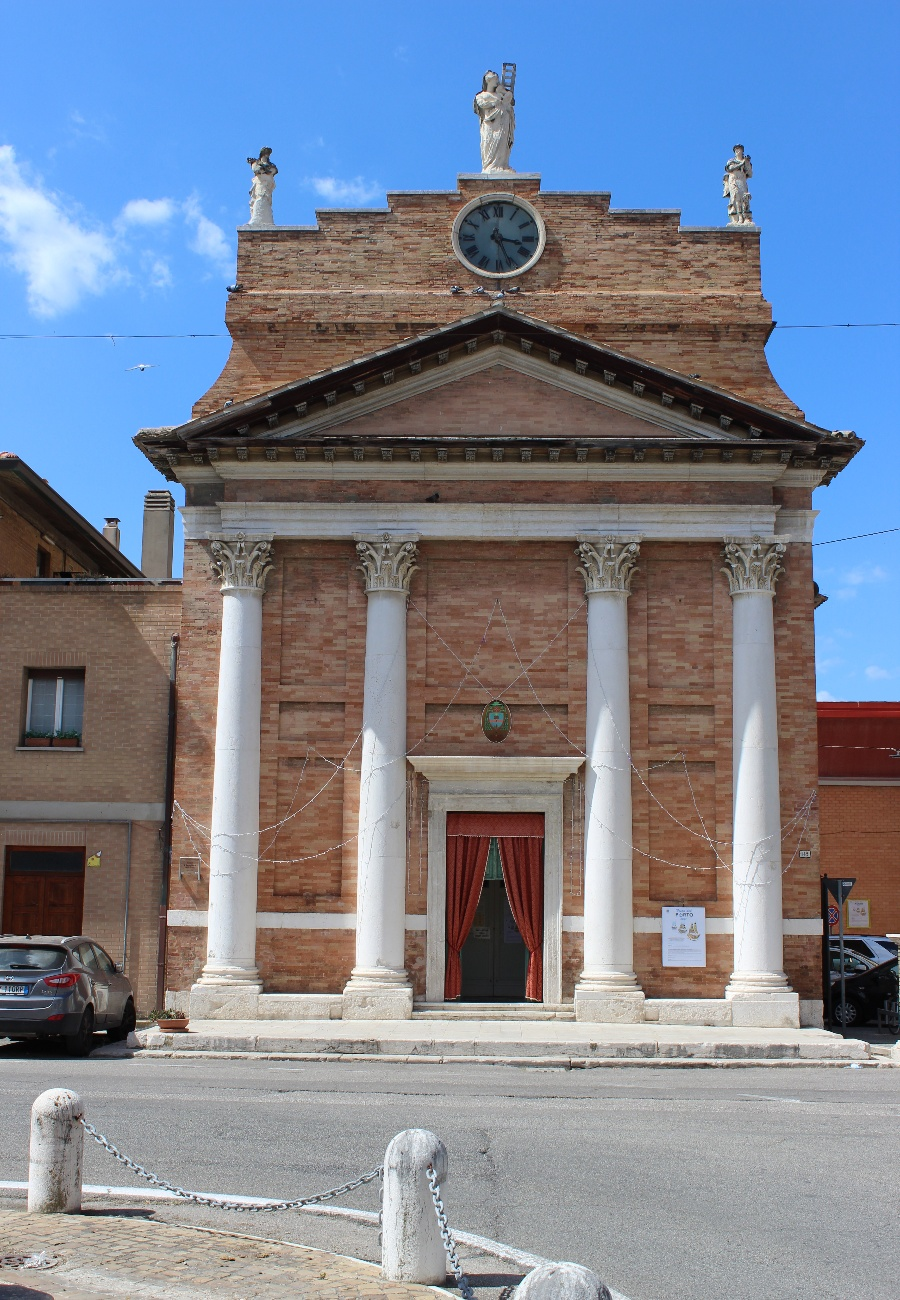Parrocchia Santa Maria: (131, 63, 869, 1064)
